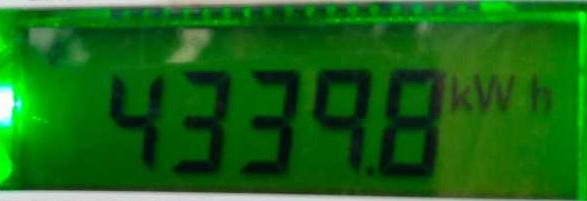.: (446, 72, 558, 118)
0: (364, 164, 378, 180)
4: (240, 66, 302, 178), (173, 66, 232, 176)
5: (105, 71, 170, 173)
9: (377, 65, 447, 180)
:: (309, 65, 374, 173)
